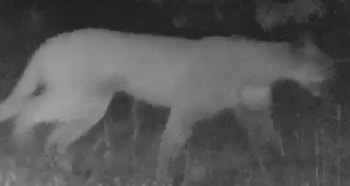Mountain Lion: (10, 12, 343, 178)
